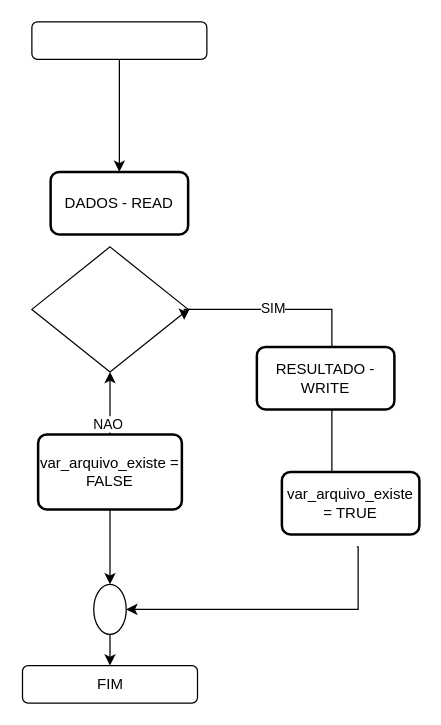
Some shapes in this 441 by 725 pixel diagram are drawn without their labels. The shapes that lost their labels are listed below. From the top down, each one's box as (x1, y1, x2, y2) in pixels, then its label:
(31, 21, 207, 59): INICIAR
(31, 246, 188, 372): ARQUIVO ABERTO
